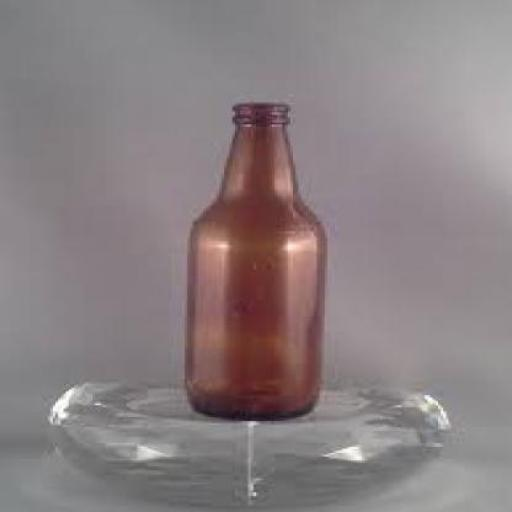glass: (45, 380, 449, 510), (182, 100, 323, 416)
